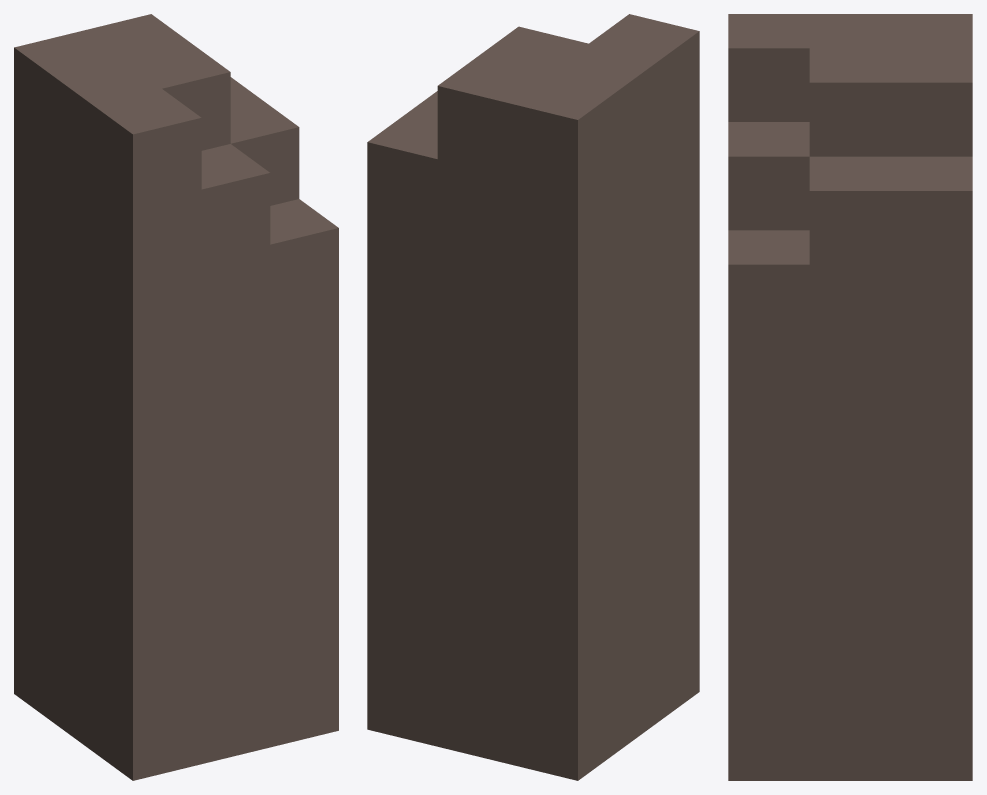
File: sheep__leg_br.glb
3 views of the same model, side by side, from view 1: azimuth 30°, elevation 25°; view 2: azimuth 150°, elevation 25°; view 3: azimuth 270°, elevation 25° (orthographic). The views are drawn at different scales.
Visible parts, largest first — view 1: sheep__leg_br; view 2: sheep__leg_br; view 3: sheep__leg_br.
Part boxes in pixels (x1=…): sheep__leg_br: x1=14, y1=14, x2=338, y2=780; sheep__leg_br: x1=367, y1=14, x2=699, y2=780; sheep__leg_br: x1=728, y1=14, x2=972, y2=780.
Bounding box in the file's own units: 0.3 × 0.9 × 0.3.
1 material, 1 textured.
